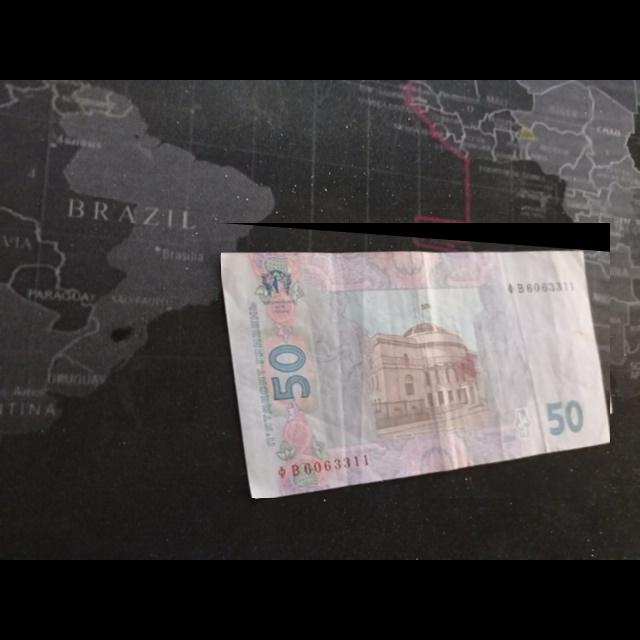50uah: (221, 245, 611, 499)
